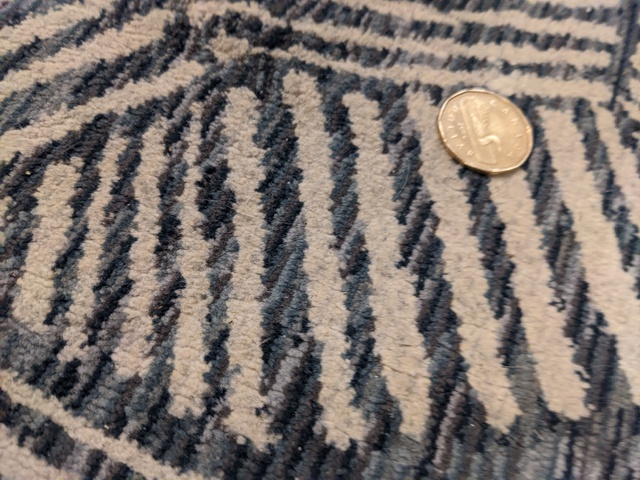loonie: (430, 85, 548, 167)
